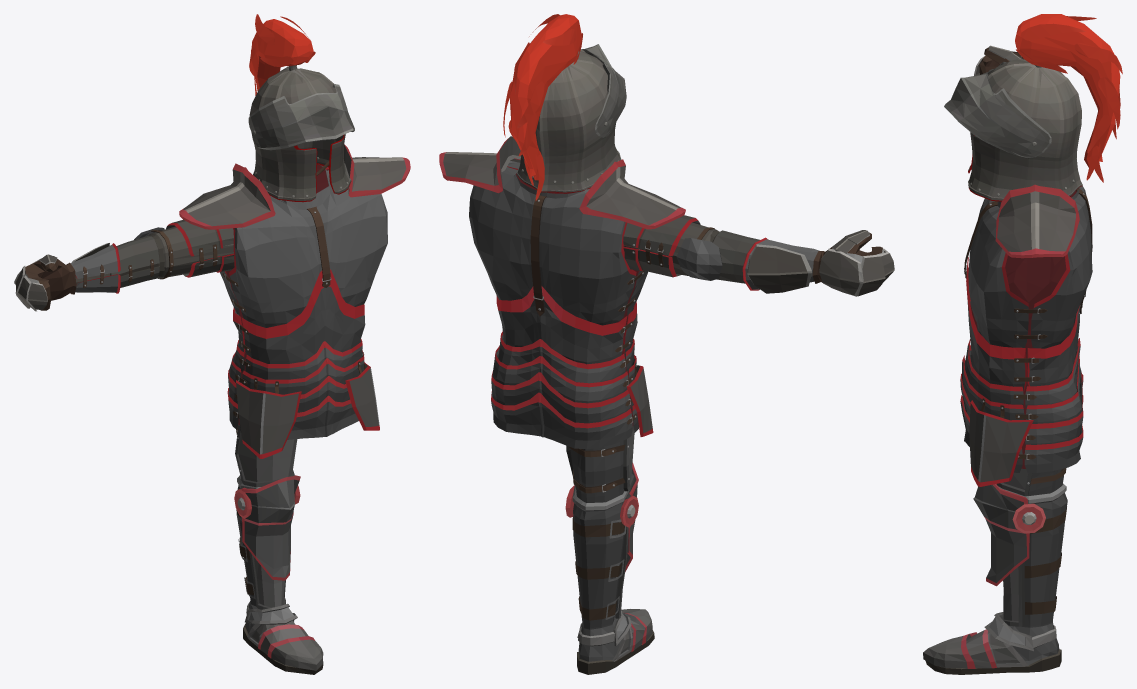
File: heavyArmor.glb
The picture shows the model from 3 angles, left to right: view 1: azimuth 30°, elevation 25°; view 2: azimuth 150°, elevation 25°; view 3: azimuth 270°, elevation 25°; orthographic projection. The views are drawn at different scales.
Visible parts, largest first — view 1: heavyArmor, heavyArmorHelmet, heavyArmorLowerLeg, heavyArmorHelmetVisor, heavyArmorLowerArm, heavyArmorShoeFootLeg, heavyArmorUpperArm, heavyArmorHelmetFeathers, heavyArmorHandArm, heavyArmorUpperLeg; view 2: heavyArmor, heavyArmorHelmet, heavyArmorLowerLeg, heavyArmorHelmetFeathers, heavyArmorUpperArm, heavyArmorLowerArm, heavyArmorHandArm, heavyArmorShoeFootLeg, heavyArmorUpperLeg, heavyArmorHelmetVisor; view 3: heavyArmor, heavyArmorHelmet, heavyArmorLowerLeg, heavyArmorHelmetFeathers, heavyArmorShoeFootLeg, heavyArmorHelmetVisor, heavyArmorUnderShirt, heavyArmorUpperLeg, heavyArmorHandArm.
Part boxes in pixels (x1=…): heavyArmor: x1=179, y1=144, x2=410, y2=458; heavyArmorHelmet: x1=249, y1=65, x2=351, y2=202; heavyArmorLowerLeg: x1=234, y1=475, x2=300, y2=609; heavyArmorHelmetVisor: x1=248, y1=84, x2=354, y2=150; heavyArmorLowerArm: x1=70, y1=234, x2=164, y2=293; heavyArmorShoeFootLeg: x1=243, y1=600, x2=323, y2=674; heavyArmorUpperArm: x1=134, y1=219, x2=234, y2=279; heavyArmorHelmetFeathers: x1=249, y1=14, x2=315, y2=95; heavyArmorHandArm: x1=14, y1=254, x2=76, y2=311; heavyArmorUpperLeg: x1=235, y1=425, x2=297, y2=487; heavyArmor: x1=439, y1=136, x2=685, y2=449; heavyArmorHelmet: x1=516, y1=50, x2=621, y2=193; heavyArmorLowerLeg: x1=565, y1=463, x2=638, y2=629; heavyArmorHelmetFeathers: x1=503, y1=14, x2=582, y2=200; heavyArmorUpperArm: x1=623, y1=215, x2=722, y2=280; heavyArmorLowerArm: x1=710, y1=230, x2=819, y2=293; heavyArmorHandArm: x1=812, y1=230, x2=894, y2=296; heavyArmorShoeFootLeg: x1=577, y1=609, x2=654, y2=674; heavyArmorUpperLeg: x1=566, y1=426, x2=634, y2=502; heavyArmorHelmetVisor: x1=581, y1=44, x2=626, y2=137; heavyArmor: x1=960, y1=182, x2=1092, y2=486; heavyArmorHelmet: x1=968, y1=59, x2=1082, y2=201; heavyArmorLowerLeg: x1=973, y1=483, x2=1067, y2=627; heavyArmorHelmetFeathers: x1=1015, y1=14, x2=1122, y2=182; heavyArmorShoeFootLeg: x1=923, y1=612, x2=1061, y2=674; heavyArmorHelmetVisor: x1=944, y1=62, x2=1051, y2=157; heavyArmorUnderShirt: x1=970, y1=191, x2=1076, y2=468; heavyArmorUpperLeg: x1=996, y1=468, x2=1066, y2=496; heavyArmorHandArm: x1=974, y1=45, x2=1023, y2=75.
Size of the model in its own units: 1.48 by 2.11 by 0.5787.
